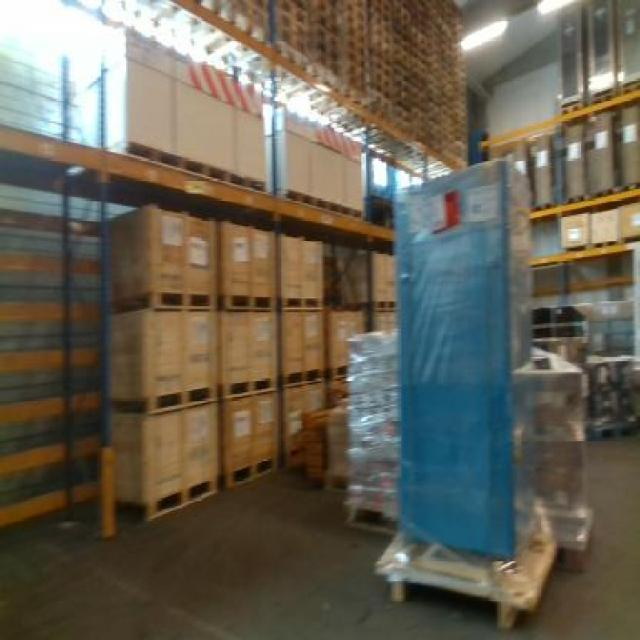ground: (0, 436, 638, 638)
pallet: (190, 0, 465, 160), (364, 533, 566, 634), (106, 137, 265, 192), (113, 475, 219, 523), (105, 286, 218, 318), (277, 185, 367, 222), (112, 383, 219, 414), (555, 179, 638, 208), (341, 491, 395, 532), (220, 452, 280, 488), (220, 373, 280, 402), (586, 418, 638, 443), (222, 291, 278, 314), (282, 367, 328, 389), (279, 294, 326, 311), (590, 88, 616, 111), (325, 364, 354, 383), (617, 77, 639, 99), (372, 298, 399, 313), (556, 102, 584, 115)
